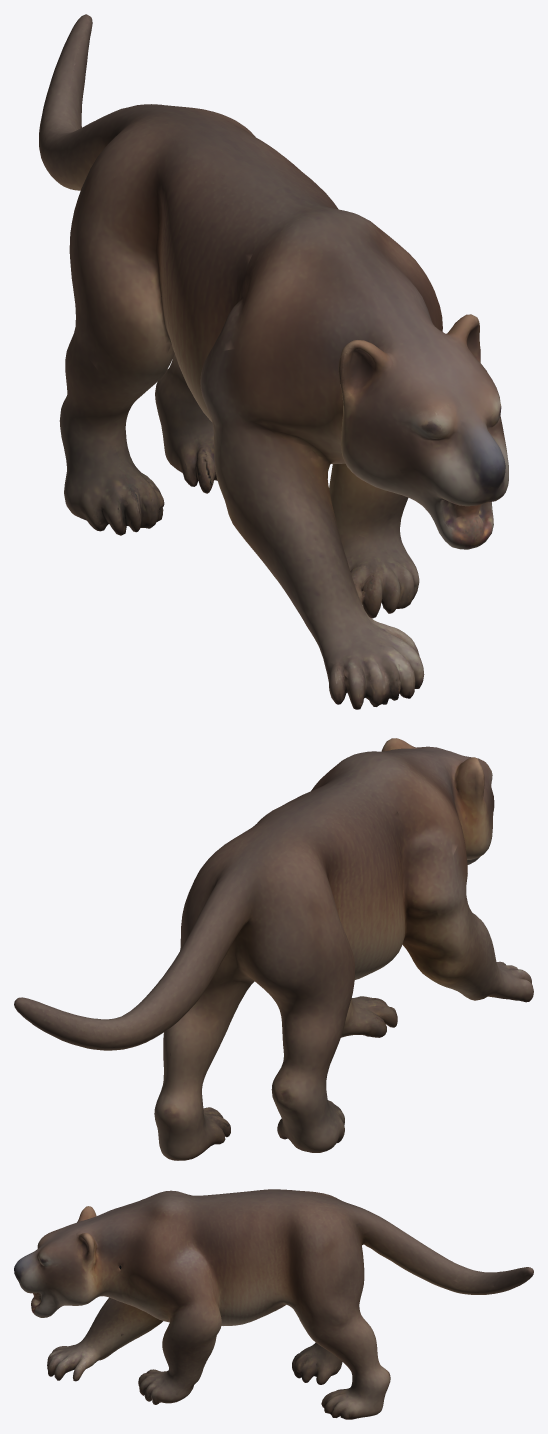
3 renders of one model, top to bottom at view 1: azimuth 30°, elevation 25°; view 2: azimuth 150°, elevation 25°; view 3: azimuth 270°, elevation 25°, orthographic. The views are drawn at different scales.
Parts seen in each view (by area): view 1: world; view 2: world; view 3: world.
Boxes of the visible parts, <box> form: world: <box>39,14,508,709</box>; world: <box>14,738,533,1160</box>; world: <box>14,1189,533,1419</box>.
Bounding box in the file's own units: 0.3998 × 0.6498 × 1.5.
1 material, 1 textured.
